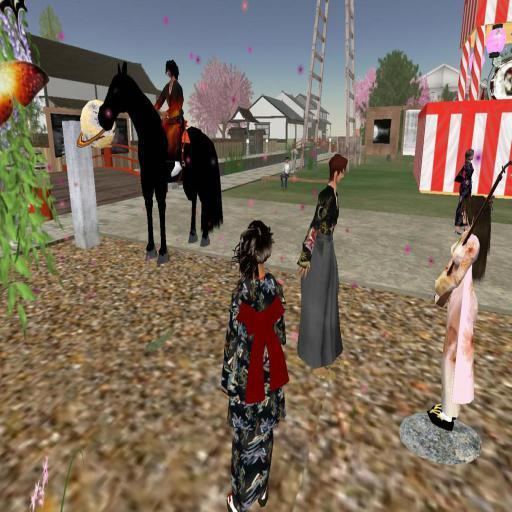horse: (98, 60, 223, 265)
